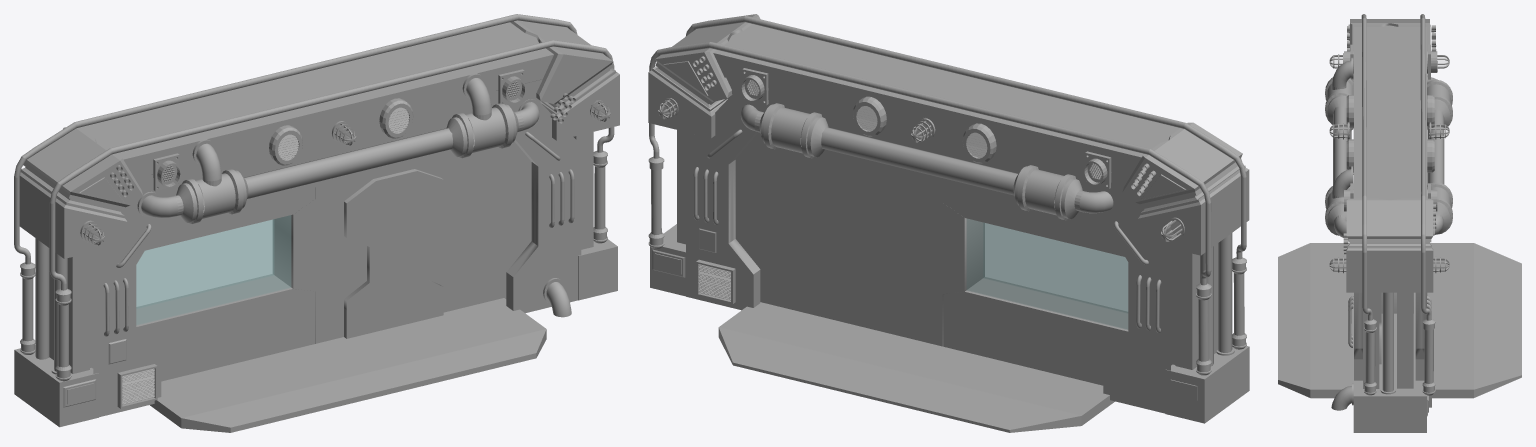
The model's file is LARGEHeavyDutyDoorModel_04_TEST.fbx.
3 renders of one model, left to right at view 1: azimuth 30°, elevation 25°; view 2: azimuth 150°, elevation 25°; view 3: azimuth 270°, elevation 25°, orthographic. The views are drawn at different scales.
Parts seen in each view (by area): view 1: pCube68, polySurface2538, polySurface2456, polySurface2541, polySurface2616, polySurface2457, polySurface2540, polySurface2434, polySurface2539, polySurface2377, polySurface2381, polySurface2445 (+22 smaller); view 2: polySurface2456, pCube68, polySurface2616, polySurface2538, polySurface2541, polySurface2539, polySurface2434, polySurface2540, polySurface2377, polySurface2362, polySurface2445, polySurface2416 (+18 smaller); view 3: pCube68, polySurface2538, polySurface2377, polySurface2530, polySurface2616, polySurface2403, polySurface2362, polySurface2445, polySurface2515, polySurface2596, polySurface2416, polySurface2454 (+15 smaller).
Boxes of the visible parts, x1,y1,x2,y2 form: pCube68: (150, 298, 546, 432); polySurface2538: (80, 22, 553, 178); polySurface2456: (293, 90, 528, 343); polySurface2541: (90, 135, 315, 381); polySurface2616: (90, 102, 581, 417); polySurface2457: (344, 169, 443, 338); polySurface2540: (136, 215, 291, 324); polySurface2434: (19, 127, 143, 258); polySurface2539: (136, 219, 273, 308); polySurface2377: (510, 20, 619, 140); polySurface2381: (135, 79, 542, 199); polySurface2445: (49, 40, 614, 279); polySurface2456: (735, 132, 964, 346); pCube68: (718, 302, 1114, 432); polySurface2616: (686, 89, 1175, 413); polySurface2538: (713, 24, 1179, 176); polySurface2541: (942, 178, 1175, 385); polySurface2539: (966, 218, 1128, 329); polySurface2434: (1122, 122, 1249, 255); polySurface2540: (983, 223, 1127, 312); polySurface2377: (648, 14, 760, 138); polySurface2362: (649, 41, 1211, 277); polySurface2445: (685, 16, 1246, 251); polySurface2416: (821, 127, 1018, 195); pCube68: (1278, 243, 1521, 398); polySurface2538: (1354, 25, 1426, 200); polySurface2377: (1346, 198, 1433, 292); polySurface2530: (1353, 380, 1426, 432); polySurface2616: (1354, 126, 1427, 380); polySurface2403: (1397, 292, 1413, 388); polySurface2362: (1420, 14, 1427, 313); polySurface2445: (1361, 14, 1369, 313); polySurface2515: (1382, 292, 1393, 391); polySurface2596: (1333, 106, 1347, 185); polySurface2416: (1427, 109, 1444, 184); polySurface2454: (1363, 292, 1379, 388).
Bounding box in the file's own units: 7.95 × 3.57 × 3.61.
